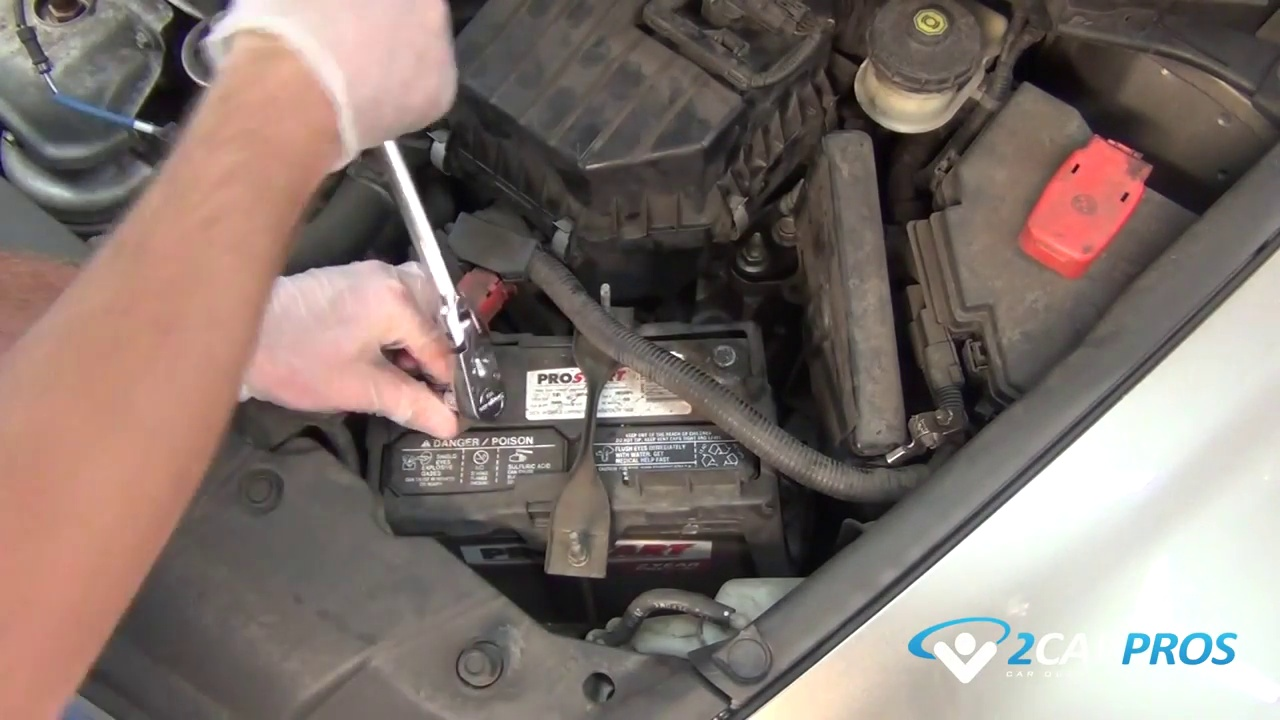battery: (365, 308, 764, 530)
neg_disconnected: (671, 323, 764, 403)
pos_touched: (370, 240, 514, 421)
